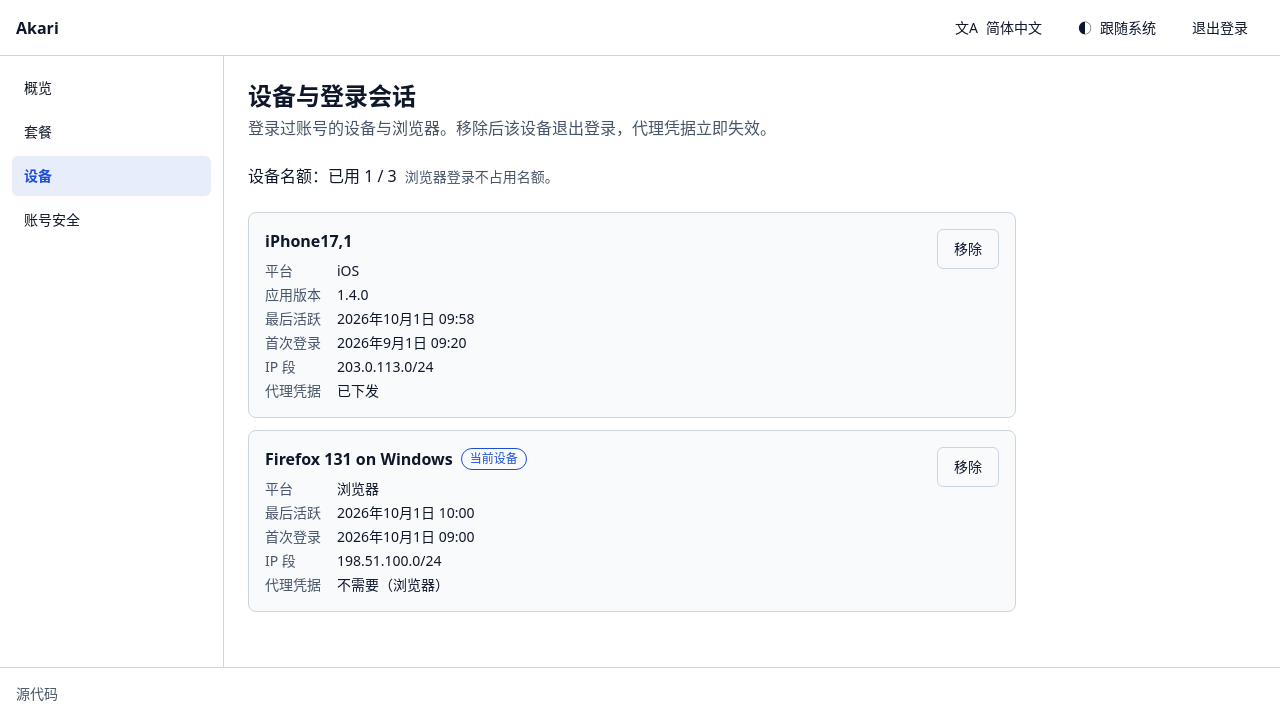
移除设备 › 确认后移除其他设备并刷新列表
Click the button with aria-label "移除 iPhone17,1" at x=968, y=249, box [937,229,999,269]
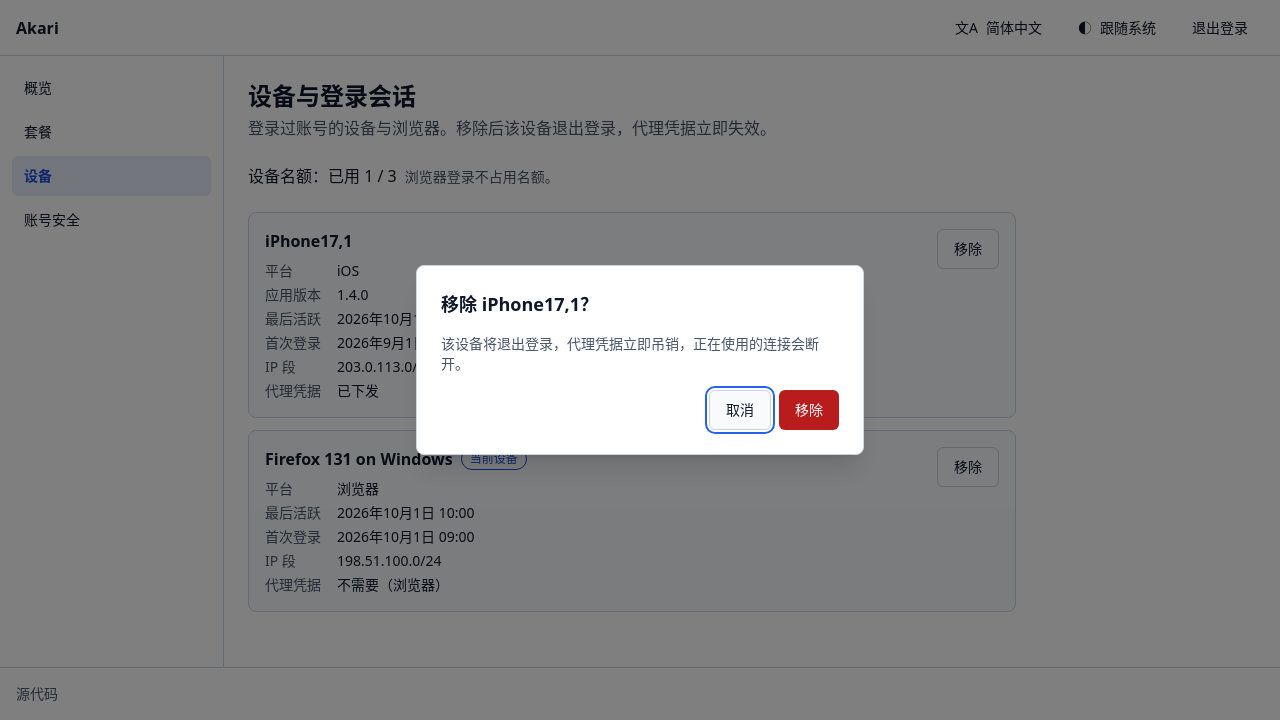
Expected: the dialog "移除 iPhone17,1？" shows "代理凭据立即吊销", [441,334,819,373]
#  取消不发请求。
Click the button "取消" at x=740, y=410, box [709,390,771,430]
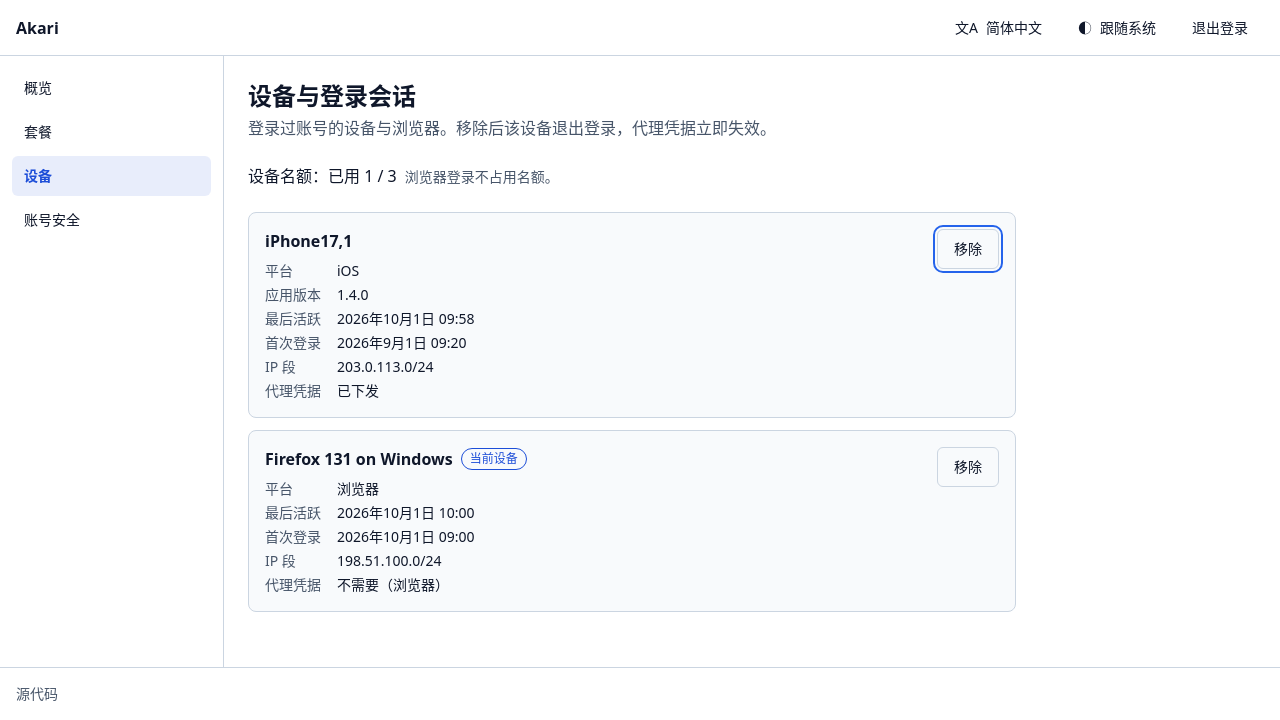
Click the button with aria-label "移除 iPhone17,1" at x=968, y=249, box [937,229,999,269]
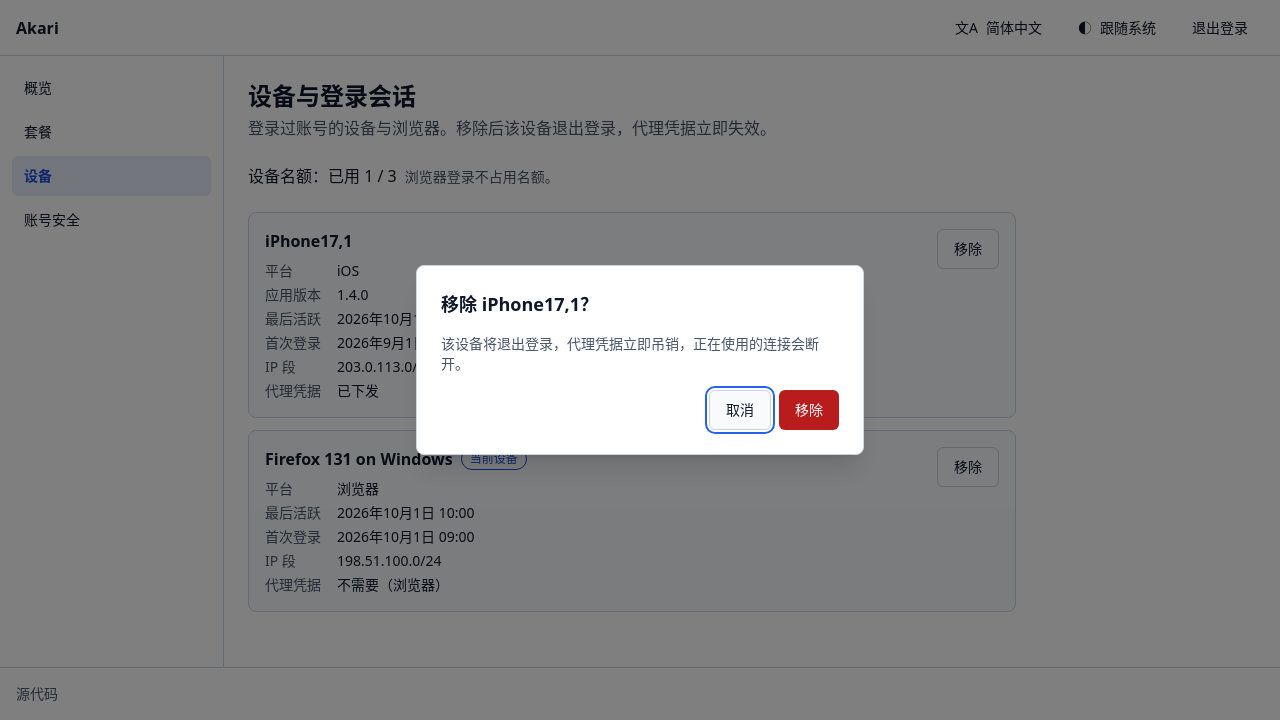
Click the button "移除" at x=809, y=410, box [779,390,839,430]
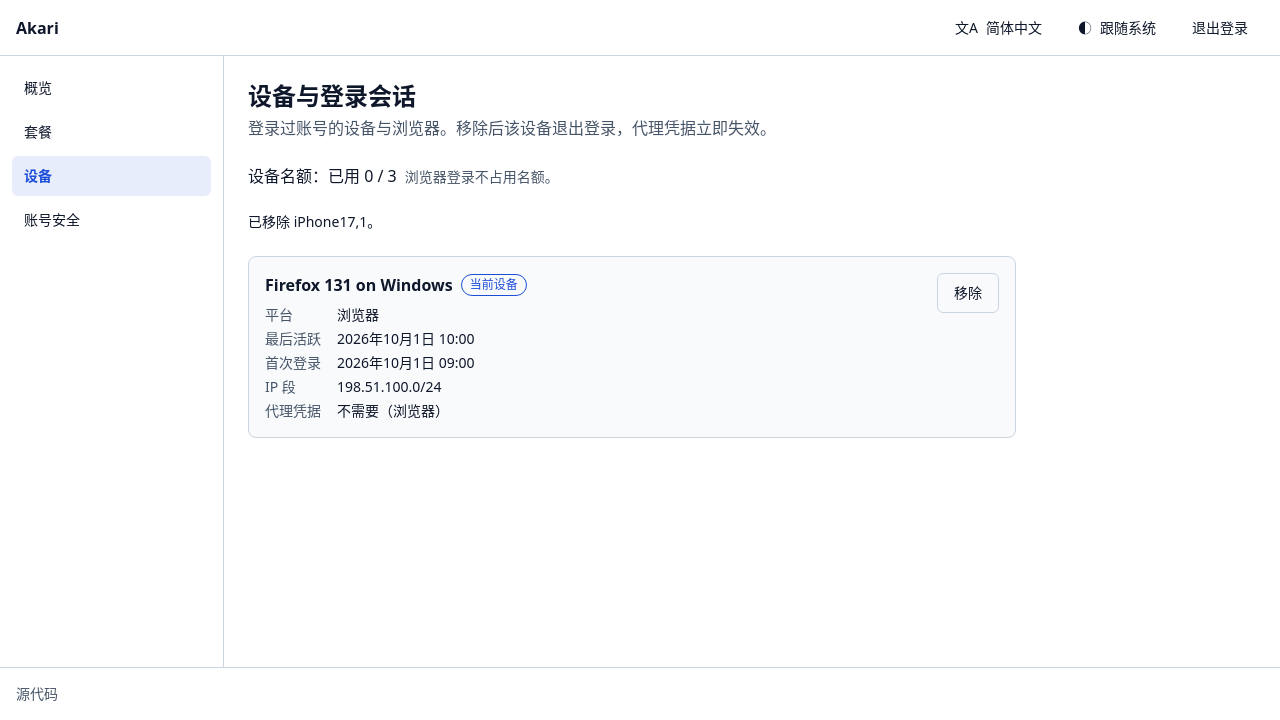
Expected: the text "已移除 iPhone17,1。" is shown, [248,212,381,231]
Expected: the dialog is gone
